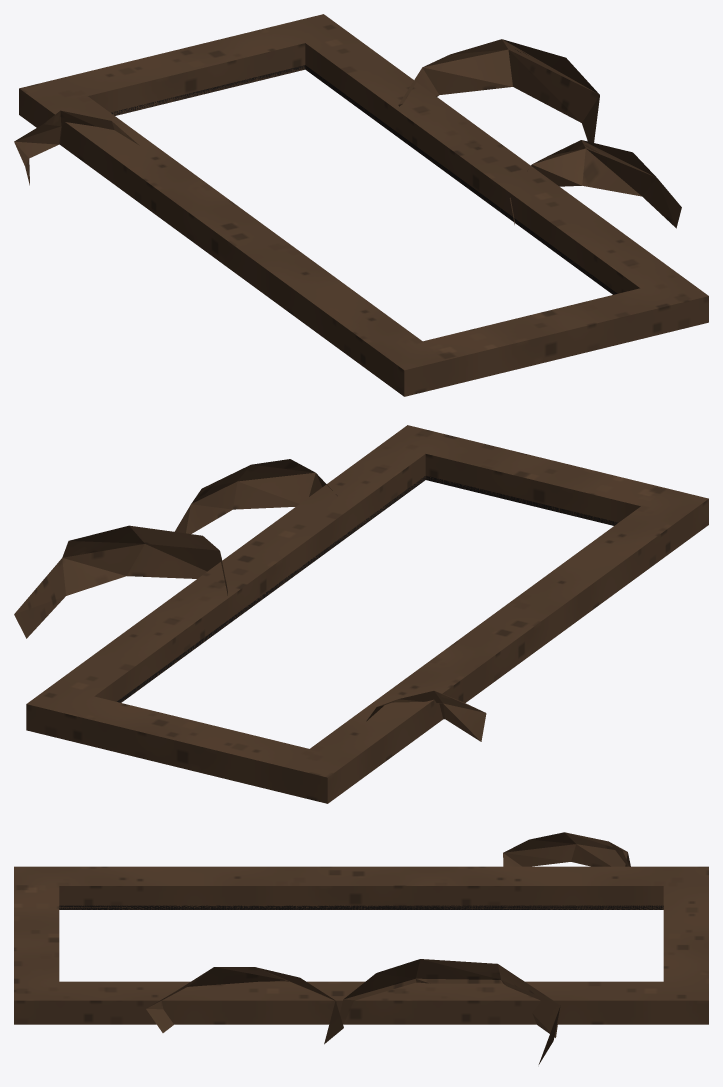
The model's file is grave_open.obj.
3 renders of one model, top to bottom at view 1: azimuth 30°, elevation 25°; view 2: azimuth 150°, elevation 25°; view 3: azimuth 270°, elevation 25°, orthographic. The views are drawn at different scales.
Visible parts, largest first — view 1: grave_open; view 2: grave_open; view 3: grave_open.
Boxes of the visible parts, x1,y1,x2,y2 form: grave_open: [14, 14, 708, 396]; grave_open: [14, 425, 708, 803]; grave_open: [14, 832, 708, 1064].
Bounding box in the file's own units: 1.36 × 0.216 × 1.84.
